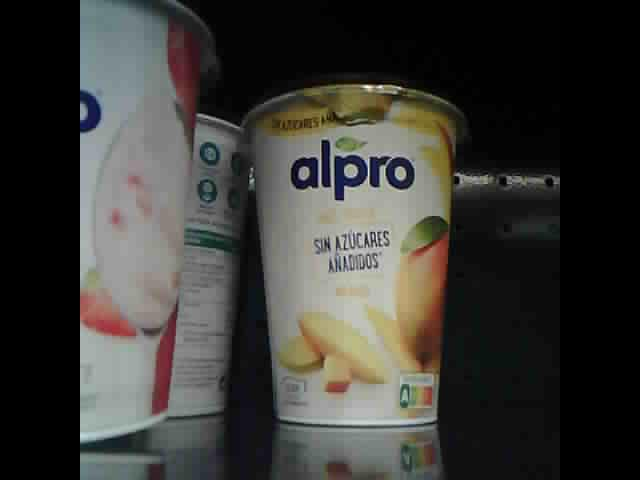alpro: (246, 73, 467, 426), (80, 1, 213, 446), (165, 105, 258, 422)
